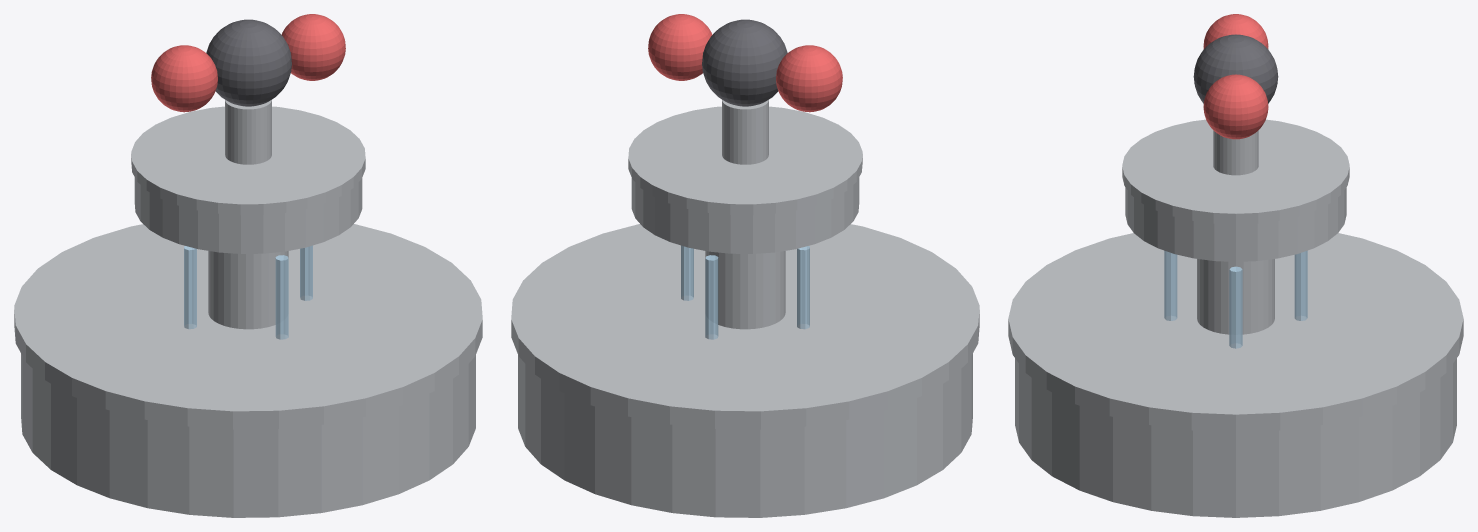
The model's file is nexus_fountain.glb.
The picture shows the model from 3 angles, left to right: view 1: azimuth 30°, elevation 25°; view 2: azimuth 150°, elevation 25°; view 3: azimuth 270°, elevation 25°; orthographic projection. The views are drawn at different scales.
Parts seen in each view (by area): view 1: BasinRim, BasinWall, UpperRim, UpperWall, C_center, Stem, O_-1.1, O_1.1, UpperStem, Jet_3, Jet_2, Jet_0; view 2: BasinRim, BasinWall, UpperRim, UpperWall, C_center, Stem, O_-1.1, O_1.1, UpperStem, Jet_1, Jet_2, Jet_0; view 3: BasinRim, BasinWall, UpperRim, UpperWall, Stem, C_center, O_1.1, UpperStem, O_-1.1, Jet_0, Jet_1, Jet_3.
Boxes of the visible parts, x1,y1,x2,y2 form: BasinRim: (14,224,482,429); BasinWall: (21,353,475,517); UpperRim: (131,106,365,215); UpperWall: (134,177,362,253); C_center: (206,19,291,106); Stem: (208,251,288,329); O_-1.1: (151,45,217,112); O_1.1: (281,14,345,80); UpperStem: (225,99,271,164); Jet_3: (275,255,288,339); Jet_2: (184,246,196,329); Jet_0: (300,245,312,300); BasinRim: (511,224,979,429); BasinWall: (518,353,972,517); UpperRim: (628,106,862,215); UpperWall: (631,177,859,253); C_center: (702,19,787,106); Stem: (705,251,785,329); O_-1.1: (776,45,842,112); O_1.1: (648,14,712,80); UpperStem: (722,99,768,164); Jet_1: (705,255,718,339); Jet_2: (797,246,809,329); Jet_0: (681,245,693,300); BasinRim: (1008,233,1463,432); BasinWall: (1015,358,1456,517); UpperRim: (1122,119,1349,224); UpperWall: (1125,187,1346,261); Stem: (1197,259,1274,334); C_center: (1193,34,1278,103); O_1.1: (1203,74,1268,139); UpperStem: (1213,130,1258,175); O_-1.1: (1203,14,1268,48); Jet_0: (1229,266,1242,348); Jet_1: (1294,250,1307,320); Jet_3: (1164,250,1177,320).
Size of the model in its own units: 7 by 6.55 by 7.
